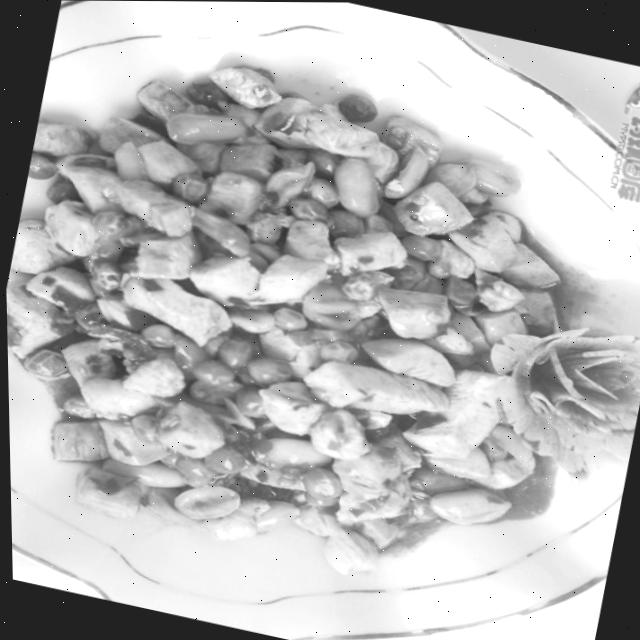鸡肉料理 含炸鸡: (0, 25, 640, 587)
